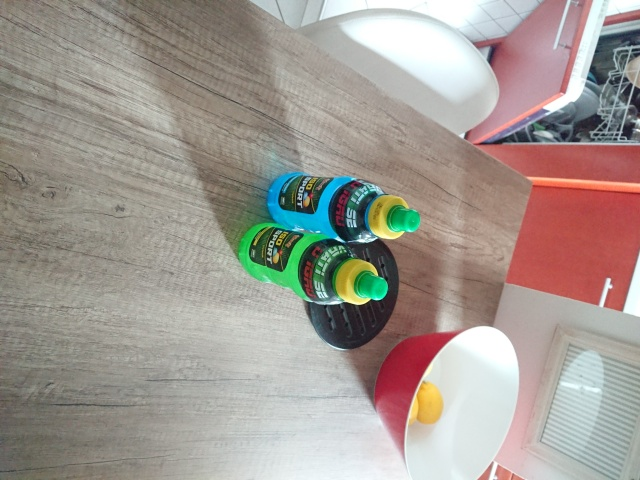Vindi Iso Sport Forest Strawberries 500mL: (265, 170, 423, 246)
Vindi Iso Sport Lemon-Grapefruit 500mL: (234, 220, 390, 308)
